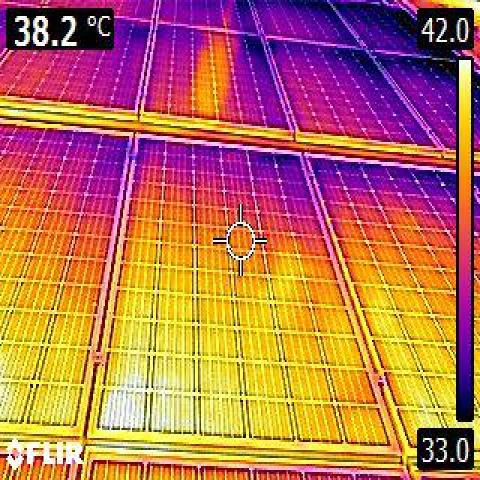fault: (104, 389, 144, 426)
